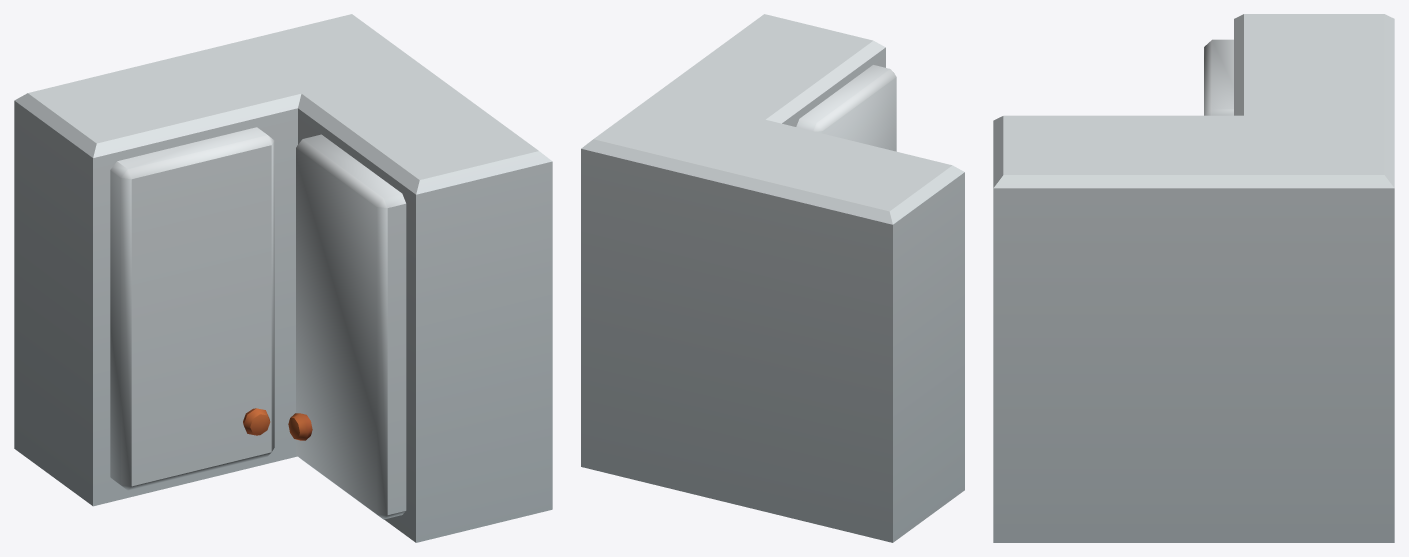
Rendered from Kitchen Cabinet Corner.glb.
3 views of the same model, side by side, from view 1: azimuth 30°, elevation 25°; view 2: azimuth 150°, elevation 25°; view 3: azimuth 270°, elevation 25° (orthographic). The views are drawn at different scales.
Parts seen in each view (by area): view 1: kitchencabinet_corner; view 2: kitchencabinet_corner; view 3: kitchencabinet_corner.
Boxes of the visible parts, x1,y1,x2,y2 form: kitchencabinet_corner: (14, 14, 552, 542); kitchencabinet_corner: (581, 14, 964, 542); kitchencabinet_corner: (993, 14, 1394, 542).
Bounding box in the file's own units: 2 × 2 × 2.
1 material, 1 textured.
